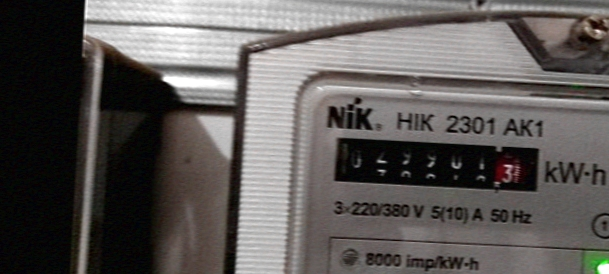0: (449, 145, 465, 171), (348, 147, 365, 168)
1: (474, 148, 488, 171)
2: (373, 145, 390, 165)
3: (501, 160, 515, 183)
9: (424, 146, 440, 169), (399, 144, 413, 167)
screen: (321, 125, 551, 202)
